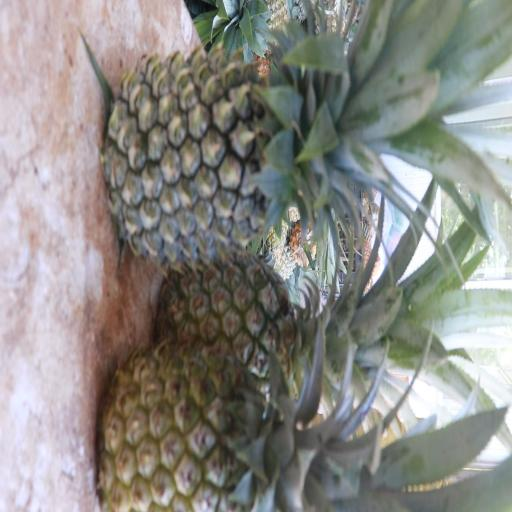------------------------------: (89, 343, 434, 512), (146, 245, 384, 412)
